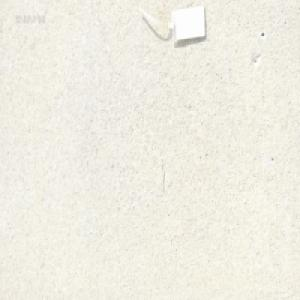LuggageTag: (135, 0, 208, 46)
